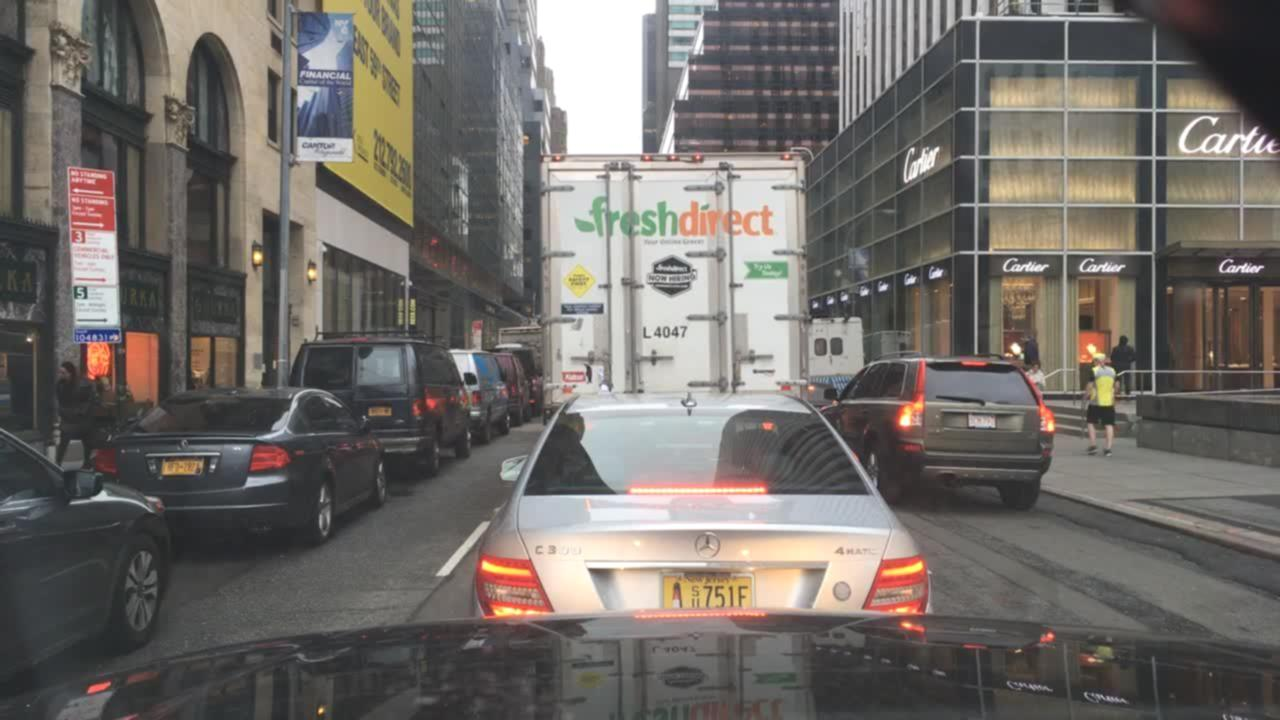Mercedes: (690, 526, 723, 563)
